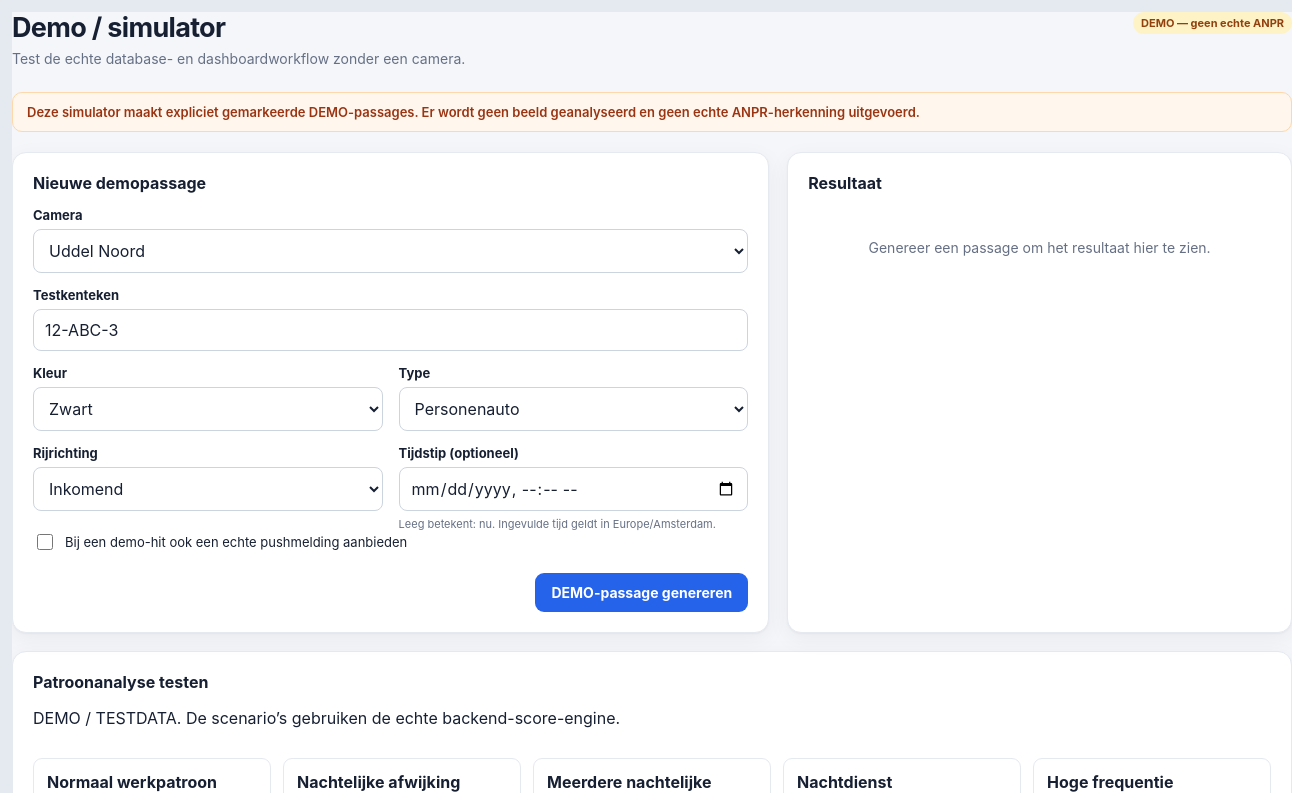
simulator camerakeuze › stuurt de gekozen camera-id mee bij het genereren van een demopassage
This screenshot has width=1292, height=793.
Step 1. Select "Eigen Camera Dorp — Dorpstraat 1" in the 1st dropdown → (391, 251), box [33, 229, 748, 273]
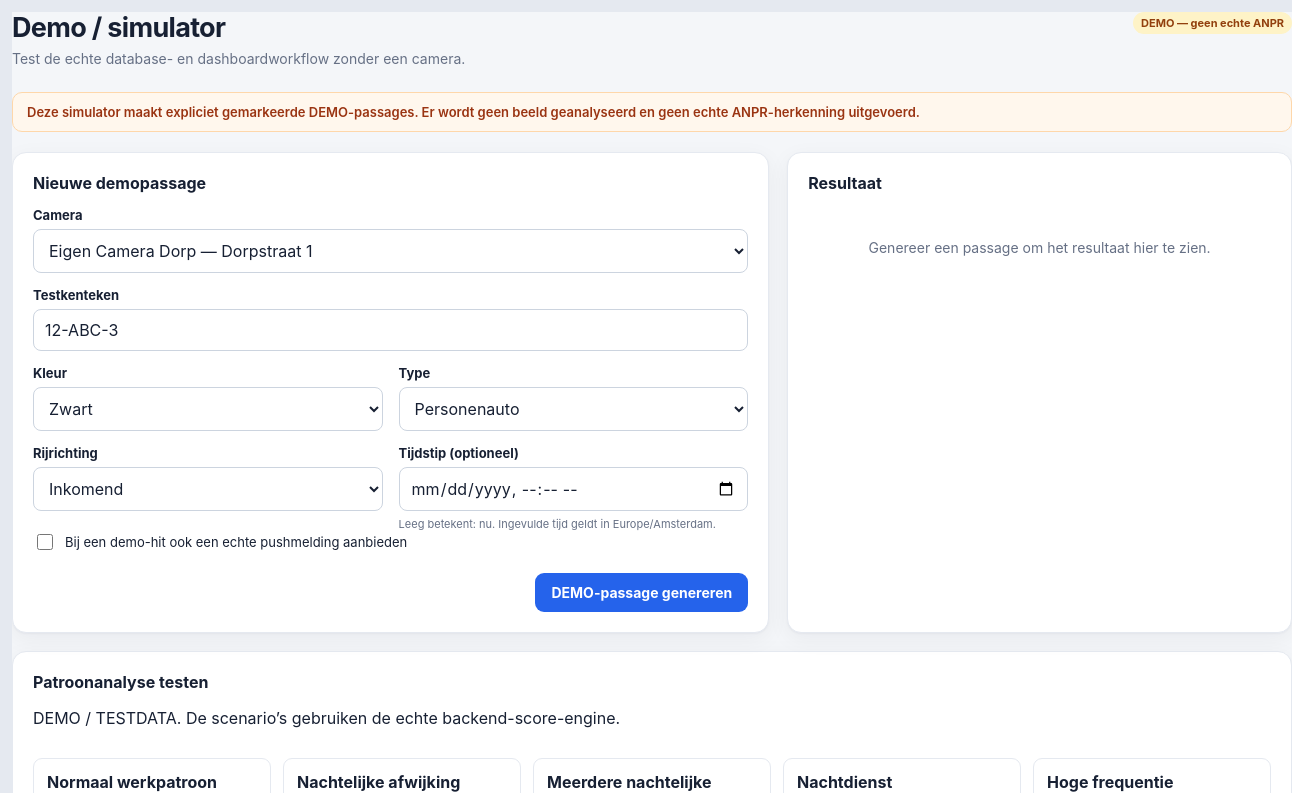
Step 2. Click the button "DEMO-passage genereren" → (642, 593), box [535, 573, 748, 612]
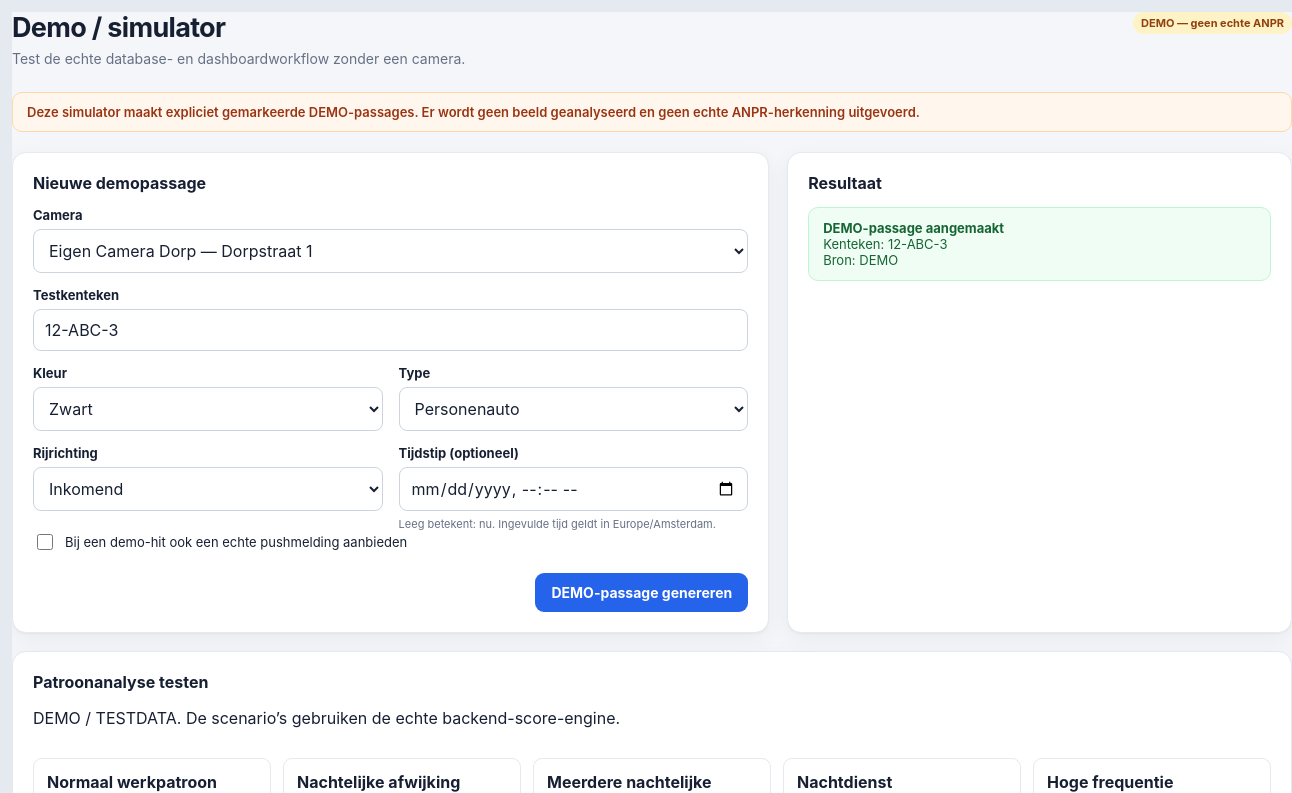
Expected: the text "DEMO-passage aangemaakt" is shown, [823, 220, 1004, 236]
